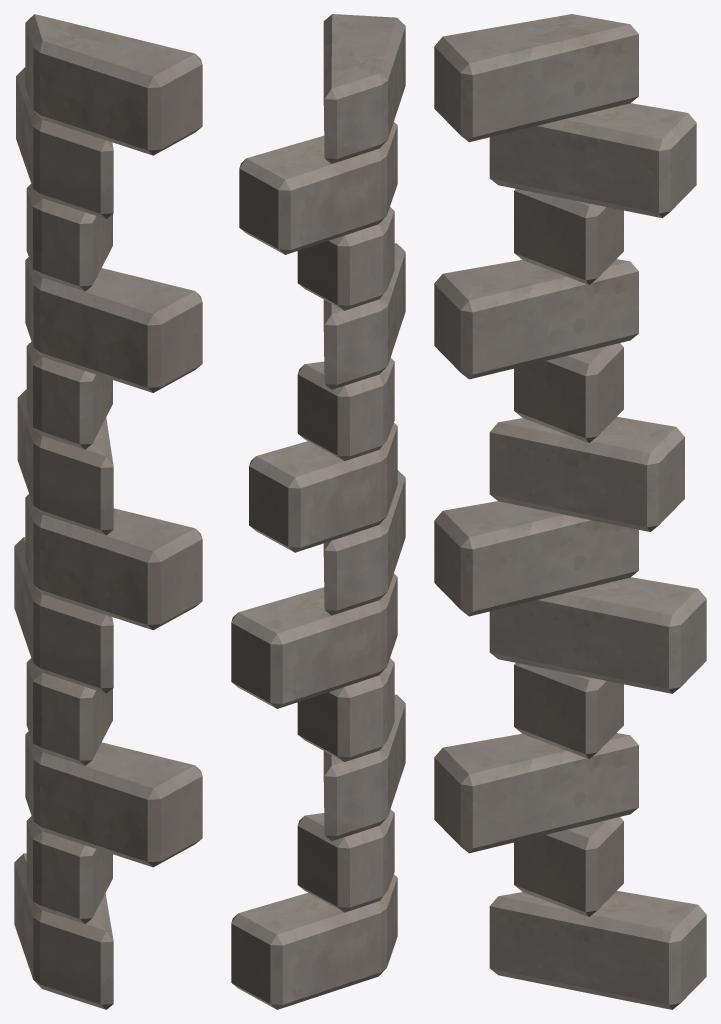
Rendered from SM_Corner_Small_Tower_M.fbx.
The picture shows the model from 3 angles, left to right: view 1: azimuth 30°, elevation 25°; view 2: azimuth 150°, elevation 25°; view 3: azimuth 270°, elevation 25°; orthographic projection. The views are drawn at different scales.
Visible parts, largest first — view 1: SM_Corner_Small_Tower_M_LOD0; view 2: SM_Corner_Small_Tower_M_LOD0; view 3: SM_Corner_Small_Tower_M_LOD0.
Part boxes in pixels (x1,y1,x2,y2): SM_Corner_Small_Tower_M_LOD0: [14, 14, 202, 1009]; SM_Corner_Small_Tower_M_LOD0: [231, 14, 405, 1009]; SM_Corner_Small_Tower_M_LOD0: [434, 14, 706, 1009].
Size of the model in its own units: 76.31 by 156 by 600.
Materials: 1 (1 with a texture image).
